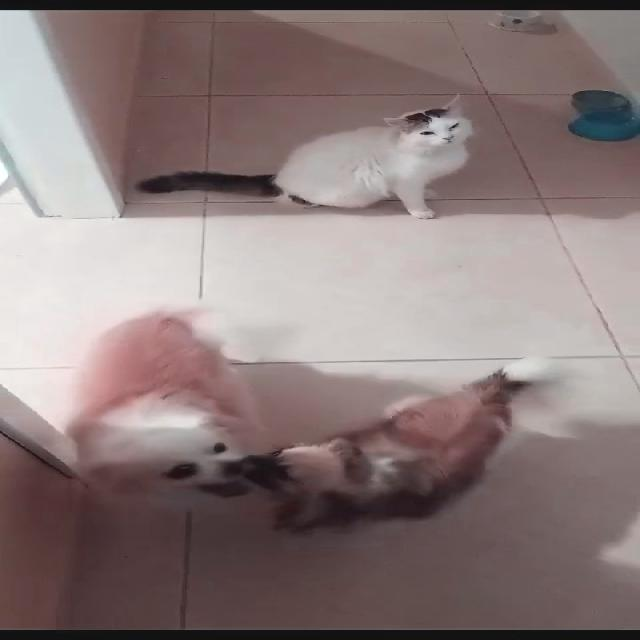Pedrita: (211, 348, 572, 530)
Simba: (187, 82, 537, 224)
Theo: (29, 287, 300, 499)
